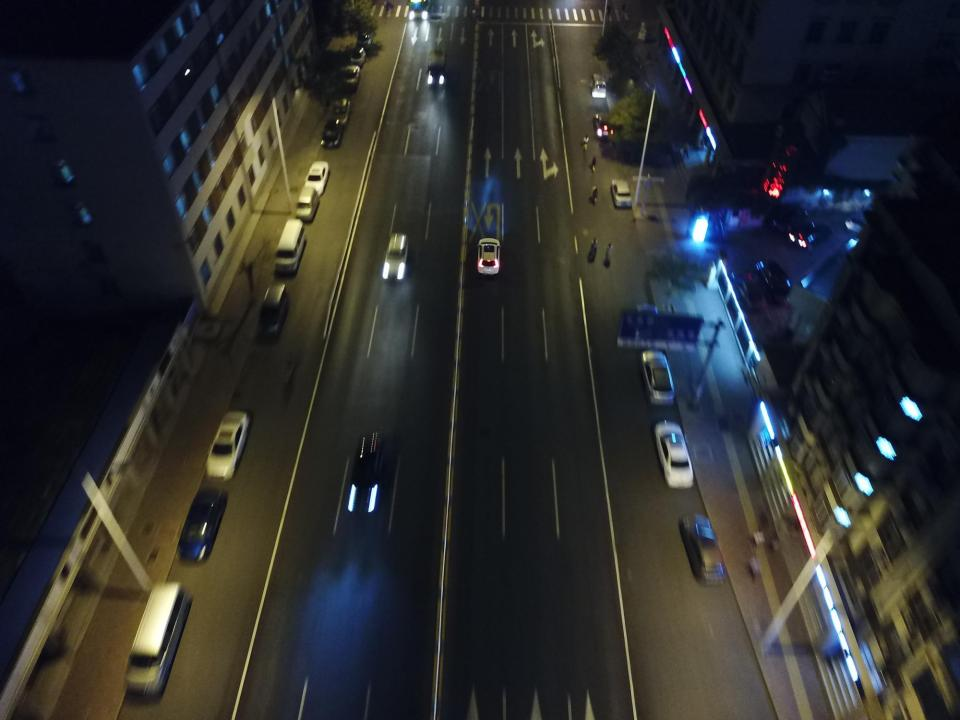bus: (409, 1, 428, 20)
car: (681, 513, 728, 588), (180, 487, 223, 562), (349, 436, 385, 512), (207, 413, 248, 479), (656, 420, 695, 488), (641, 349, 674, 405), (476, 237, 500, 275), (305, 160, 328, 198), (609, 178, 632, 210), (321, 119, 344, 147), (594, 111, 616, 137), (330, 98, 350, 122), (342, 65, 360, 90), (356, 31, 372, 48), (351, 46, 365, 65)
van: (127, 580, 192, 696), (256, 283, 288, 342), (274, 218, 305, 275), (384, 233, 408, 280), (295, 188, 319, 220), (428, 48, 446, 84), (591, 72, 606, 99)
